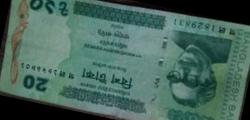20 taka: (13, 1, 246, 120)
